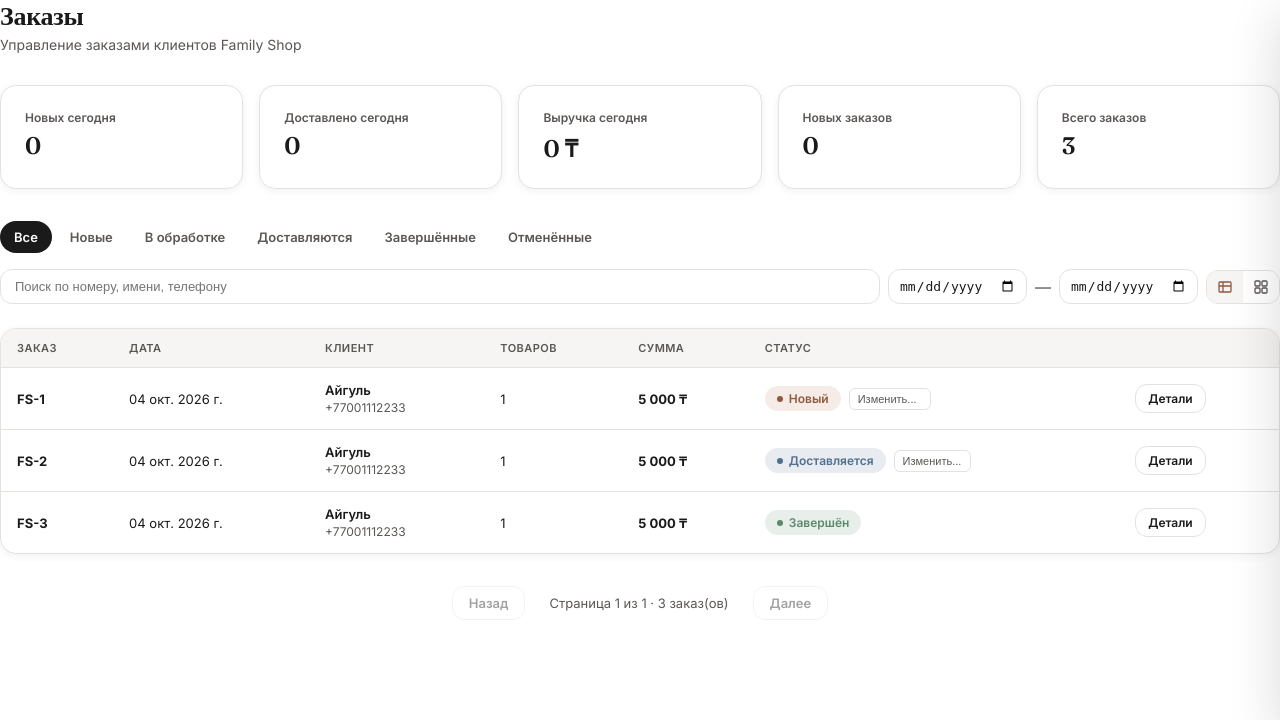
Test: cancelling from the admin orders page › does nothing when the admin backs out
Step 1. Select "Отменён" in the dropdown named "Изменить статус заказа FS-2" → point(932, 460), box [894,450,970,472]
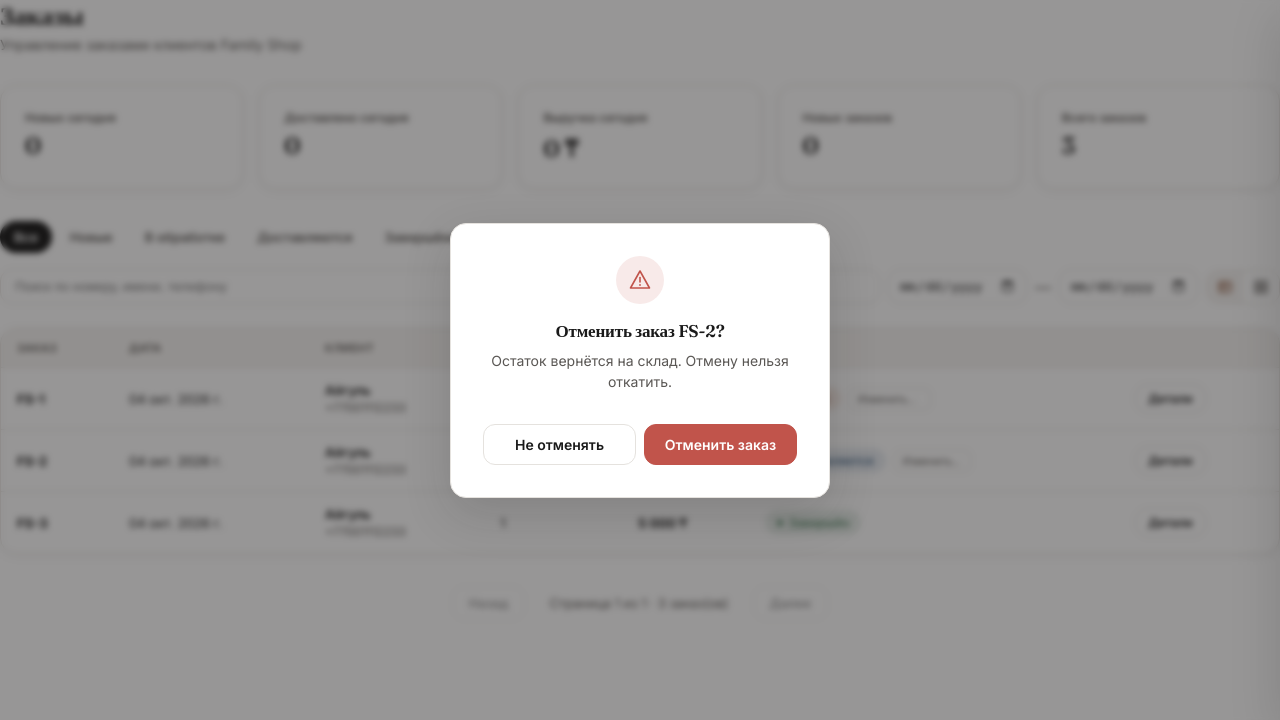
Step 2. Click the button "Не отменять" → point(560, 444), box [483,424,636,464]
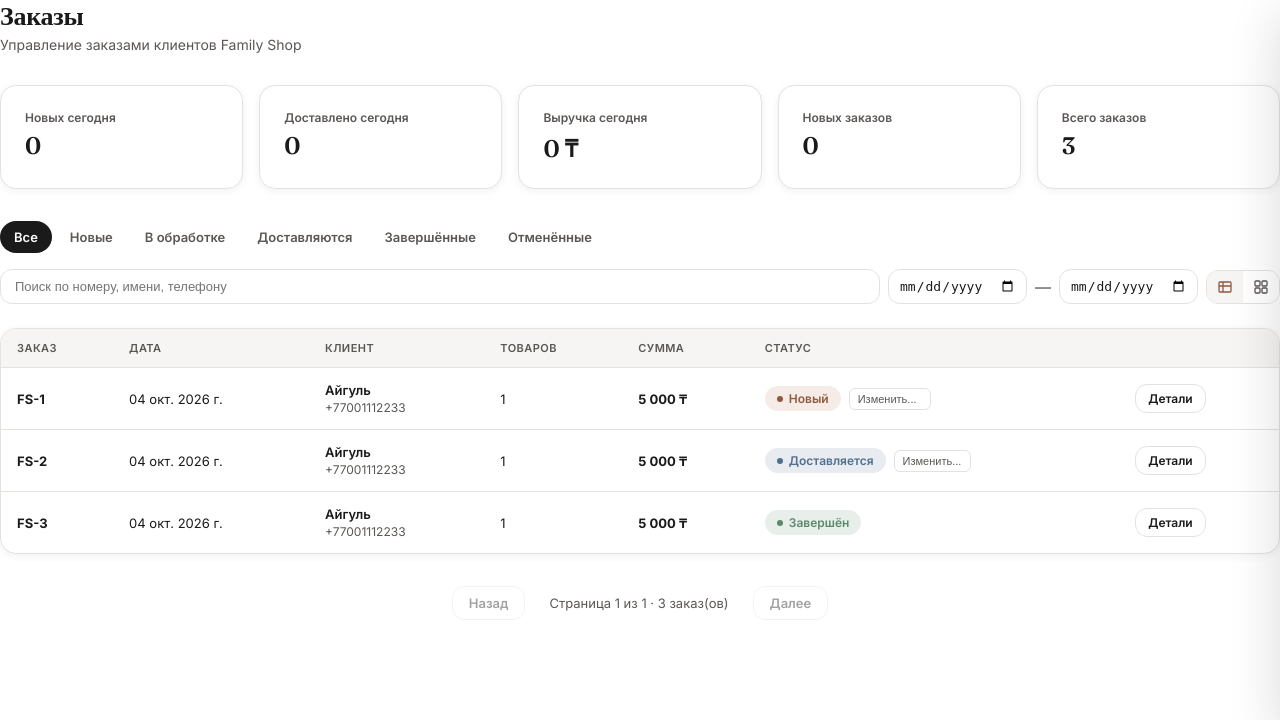
Result: the dialog is gone
